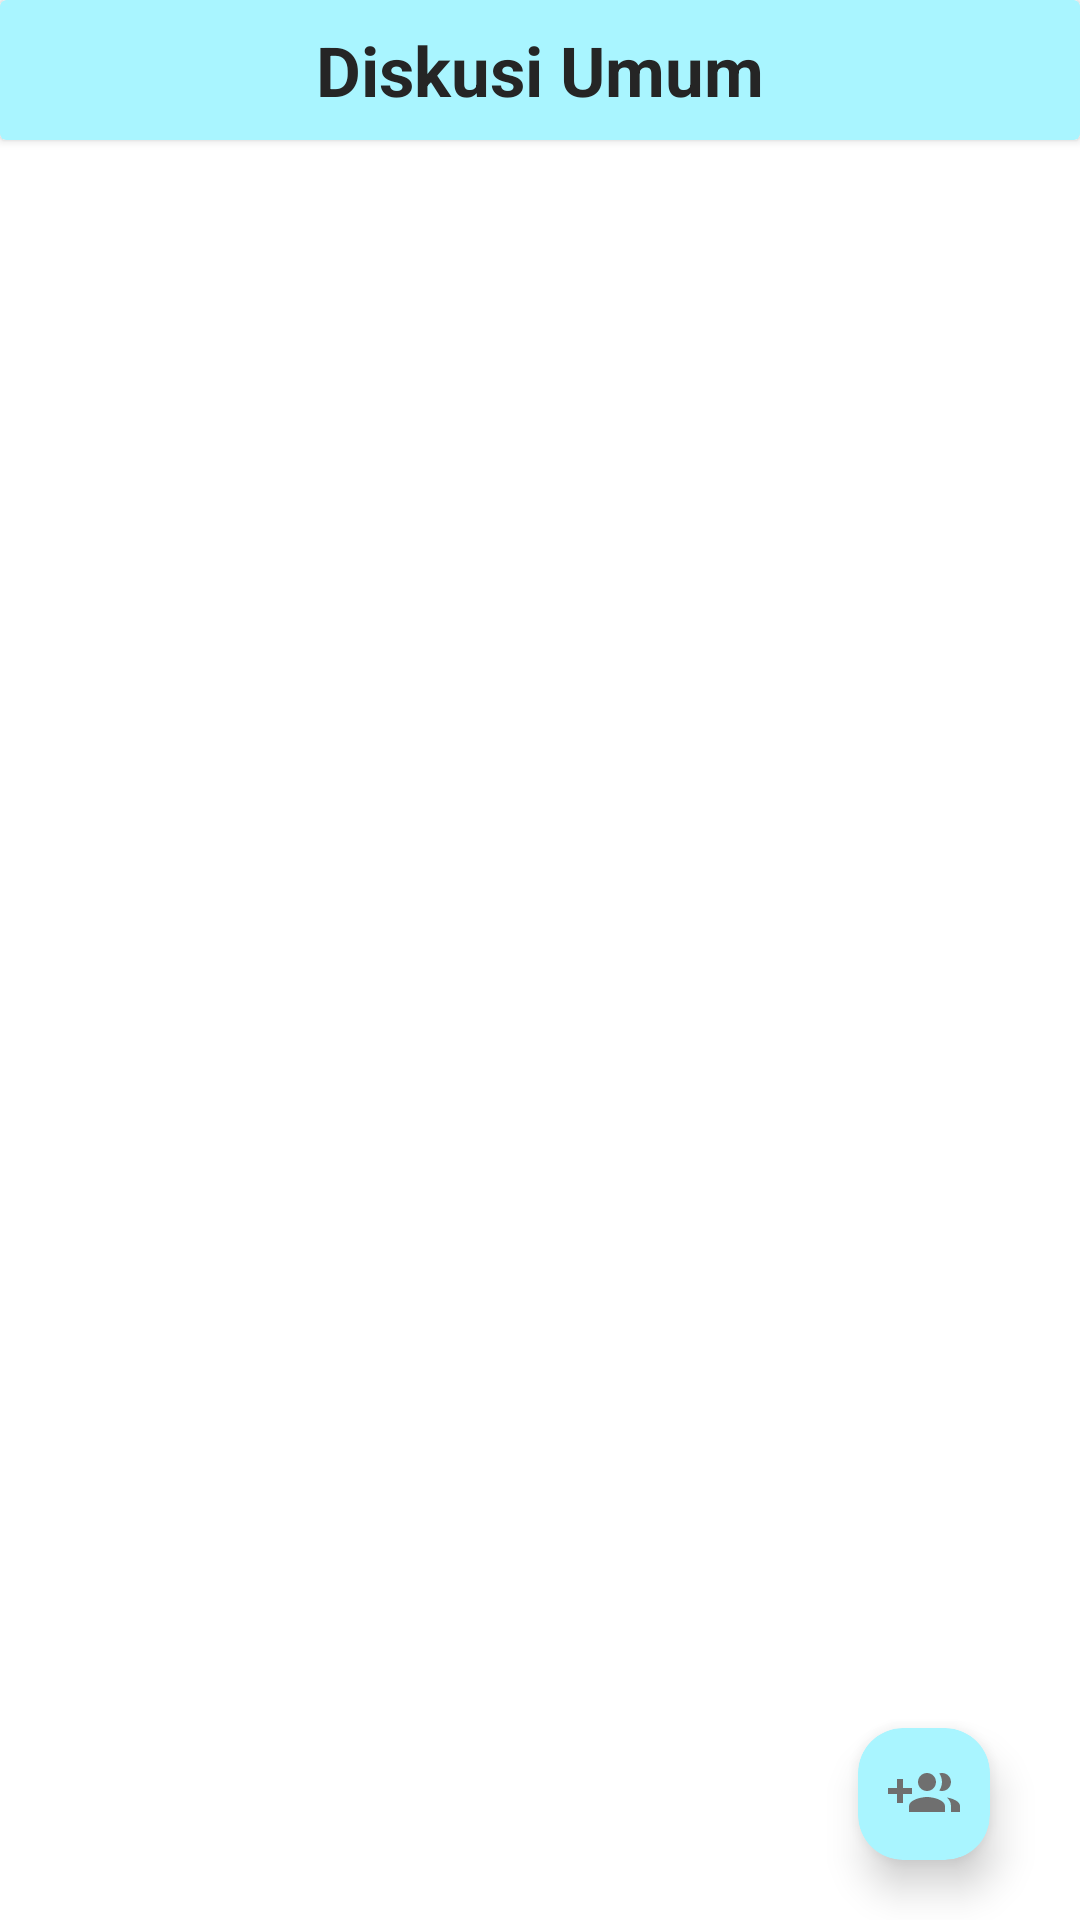

Screen size 1080px×1920px. Icon name, then its center in pixels as point (x, y):
group add: point (924, 1792)
